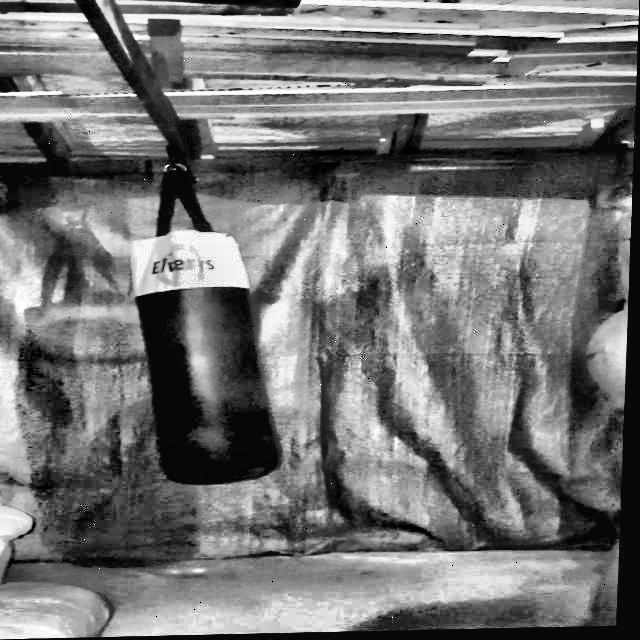boxing-bag: (128, 138, 299, 494)
